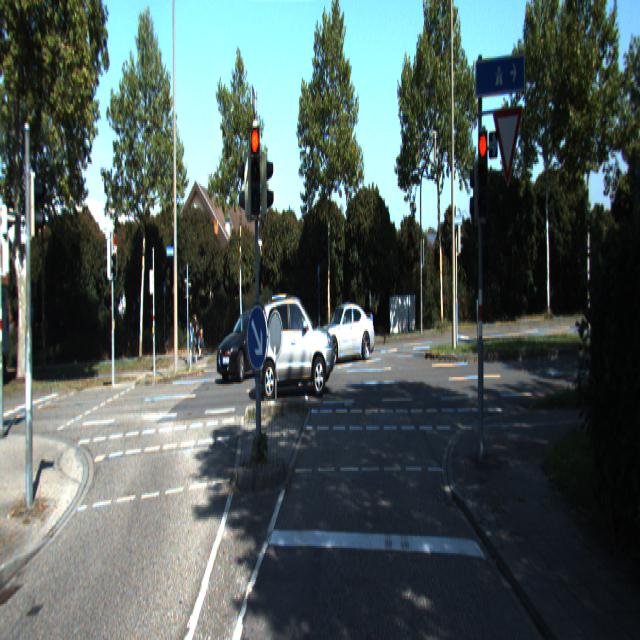Car: (255, 292, 335, 398), (215, 305, 280, 384), (312, 299, 375, 365)
